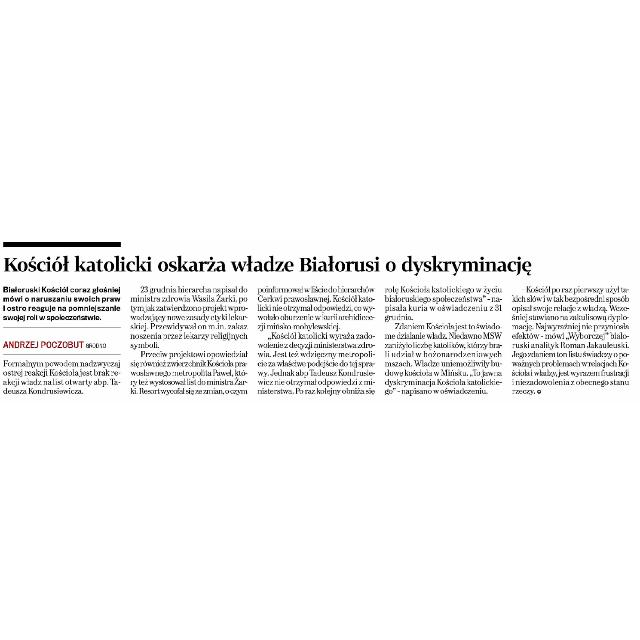author: (2, 336, 84, 349)
body: (128, 282, 252, 400), (380, 281, 506, 397), (255, 283, 378, 397), (511, 282, 632, 396), (1, 354, 124, 398)
lead: (0, 283, 124, 323)
title: (2, 251, 538, 277)
